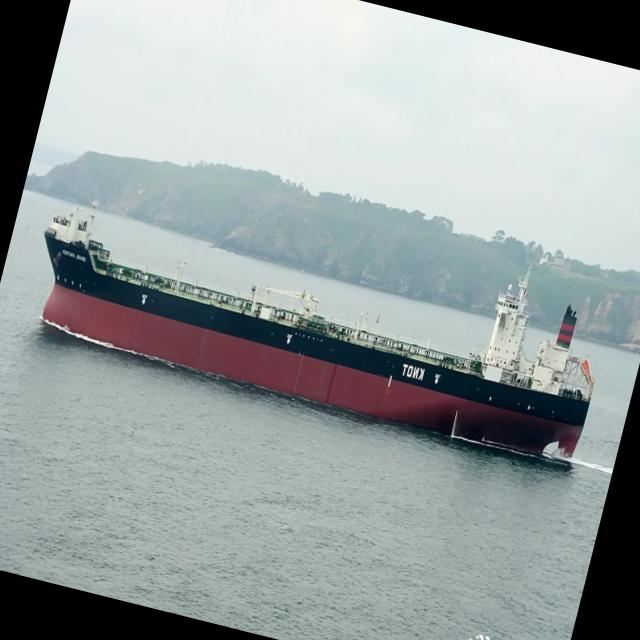Tanker: (42, 200, 593, 461)
